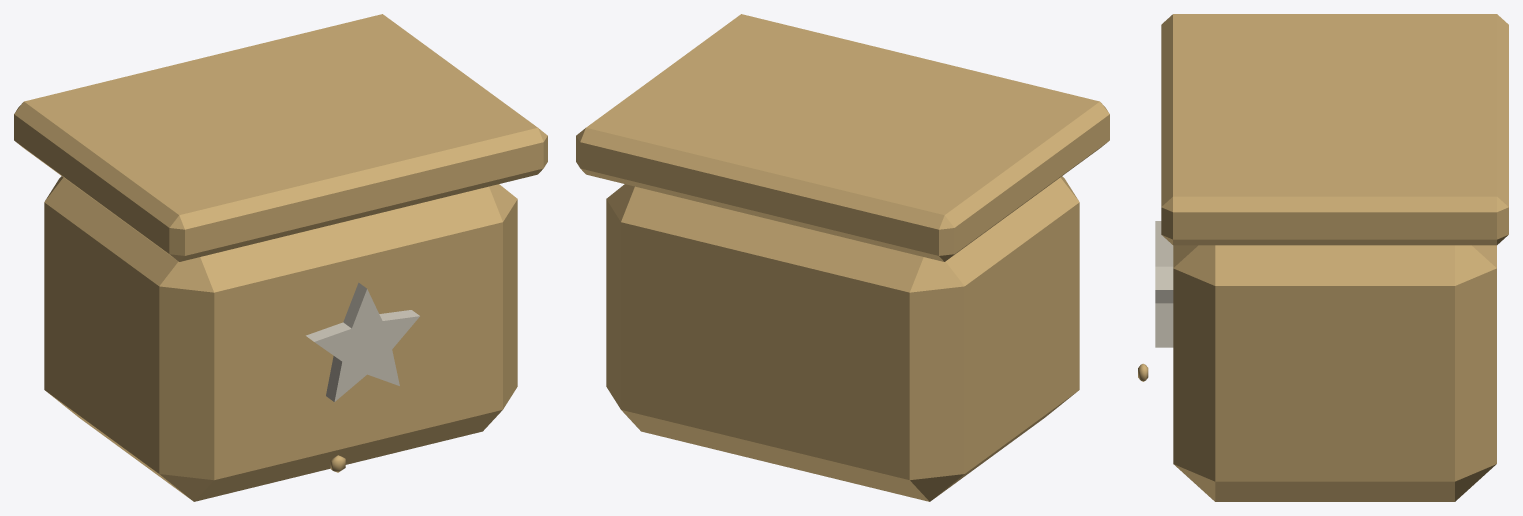
The picture shows the model from 3 angles, left to right: view 1: azimuth 30°, elevation 25°; view 2: azimuth 150°, elevation 25°; view 3: azimuth 270°, elevation 25°; orthographic projection. The views are drawn at different scales.
Parts seen in each view (by area): view 1: g_s42; view 2: g_s42; view 3: g_s42.
Boxes of the visible parts, left/top/right/bottom form: g_s42: left=14, top=14, right=547, bottom=501; g_s42: left=576, top=14, right=1109, bottom=501; g_s42: left=1138, top=14, right=1508, bottom=501.
Size of the model in its own units: 0.38 by 0.2975 by 0.3093.
